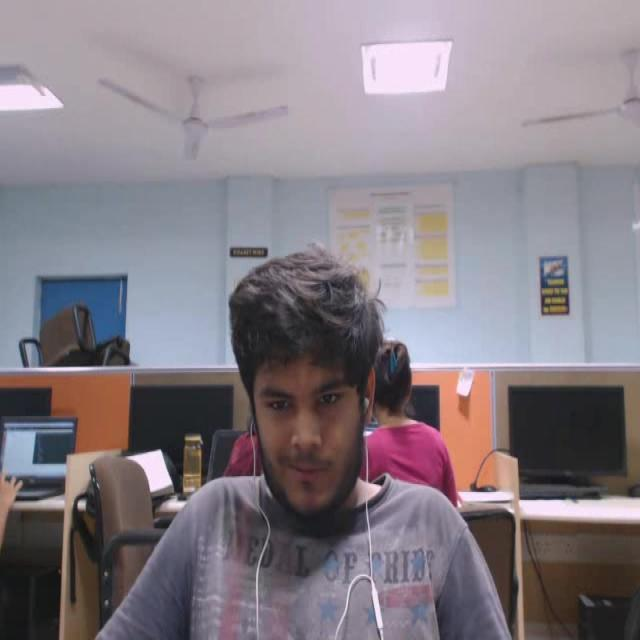Bored: (201, 211, 435, 563)
